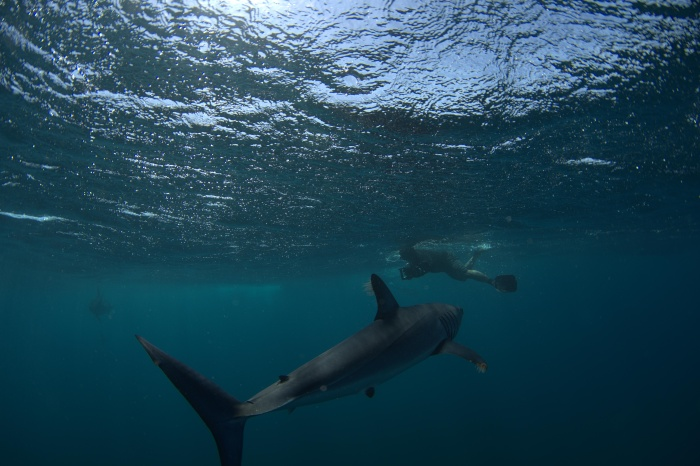Mako: (127, 269, 507, 466)
